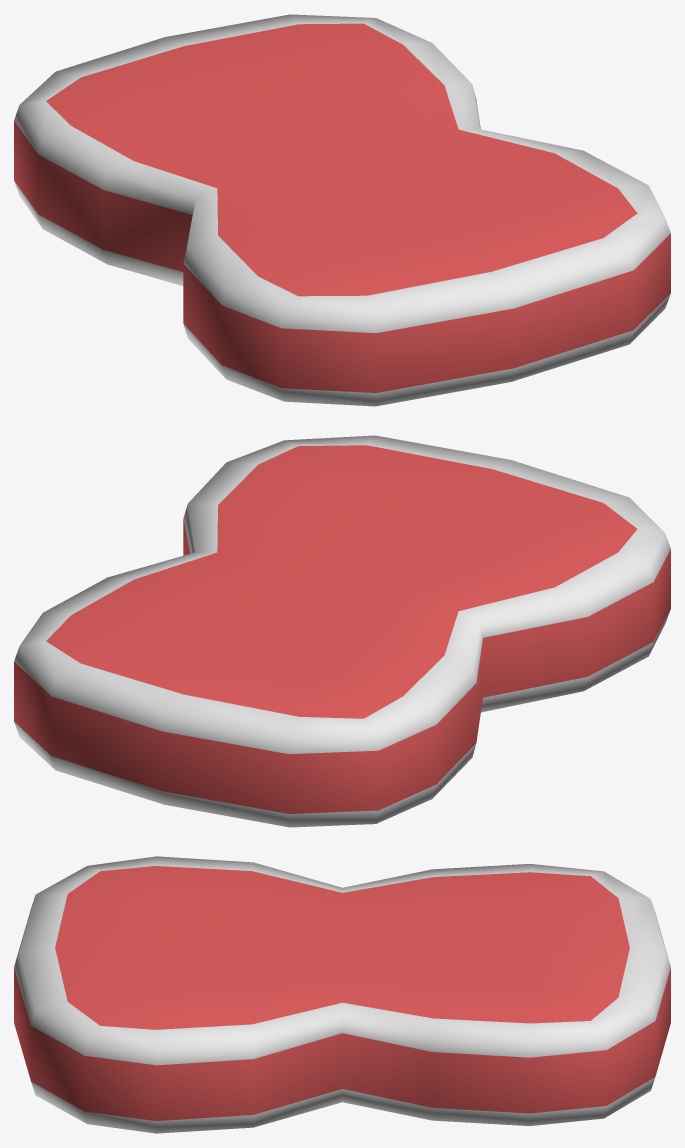
File: Daging.fbx
3 renders of one model, top to bottom at view 1: azimuth 30°, elevation 25°; view 2: azimuth 150°, elevation 25°; view 3: azimuth 270°, elevation 25°, orthographic. The views are drawn at different scales.
Visible parts, largest first — view 1: Cube.007; view 2: Cube.007; view 3: Cube.007.
Boxes of the visible parts, x1=… form: Cube.007: x1=14, y1=14, x2=670, y2=406; Cube.007: x1=14, y1=435, x2=670, y2=827; Cube.007: x1=14, y1=856, x2=670, y2=1133.
Bounding box in the file's own units: 54.04 × 12.5 × 76.34.
